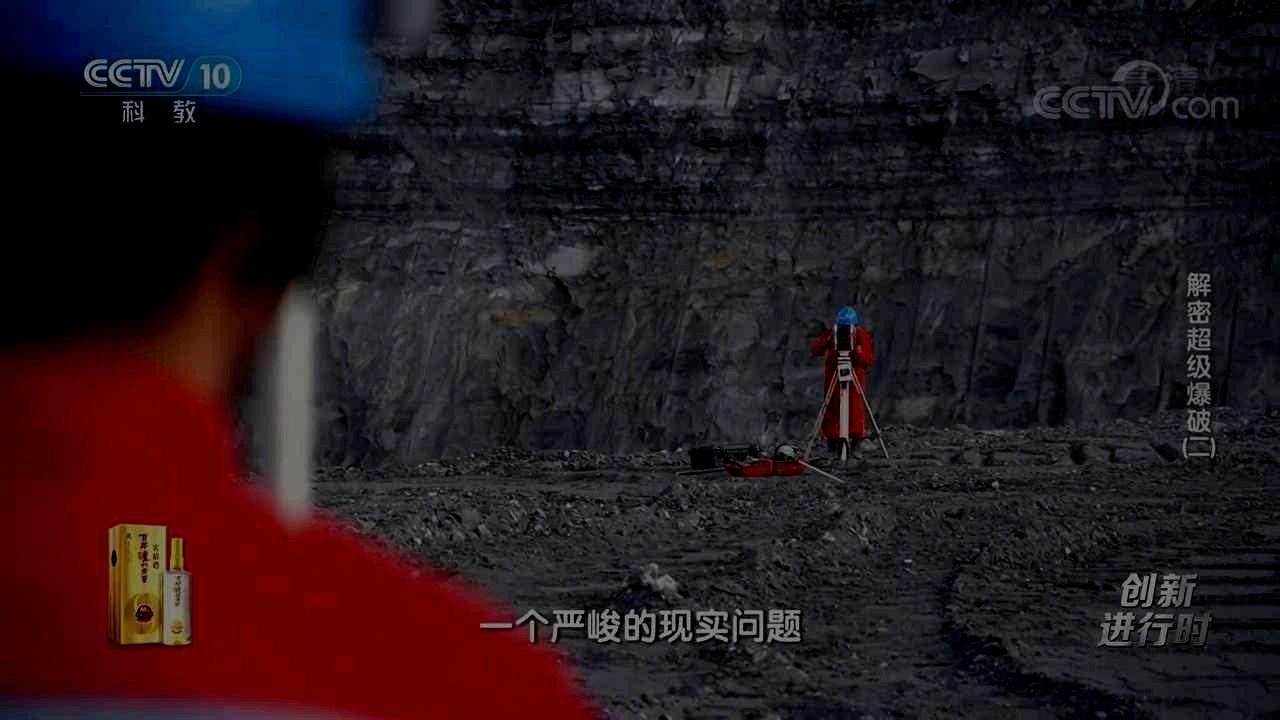helmet: (1, 1, 385, 423), (836, 305, 860, 339)
